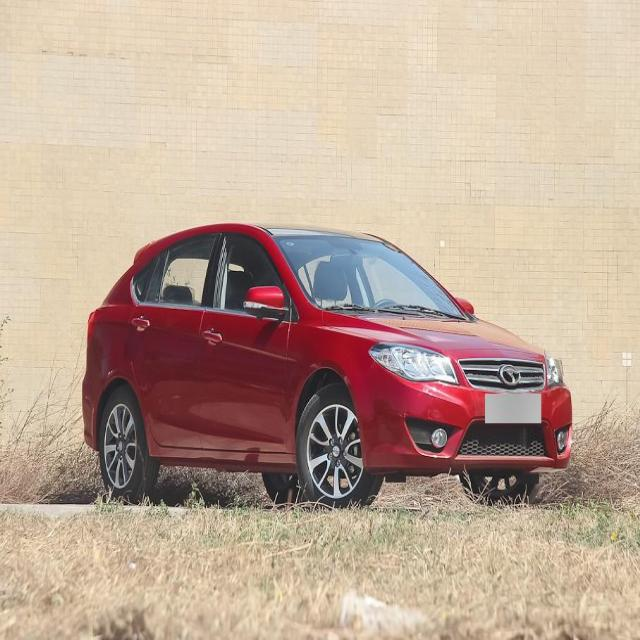door: (137, 237, 220, 458)
front_bumper: (348, 384, 573, 474)
front_glass: (270, 233, 468, 320)
front_left_side_light: (543, 352, 566, 388)
front_right_side_door: (194, 226, 292, 454)
front_right_side_light: (367, 336, 458, 386)
front_right_side_mirror: (242, 282, 288, 322)
wheel: (296, 379, 381, 510), (101, 387, 151, 502)
